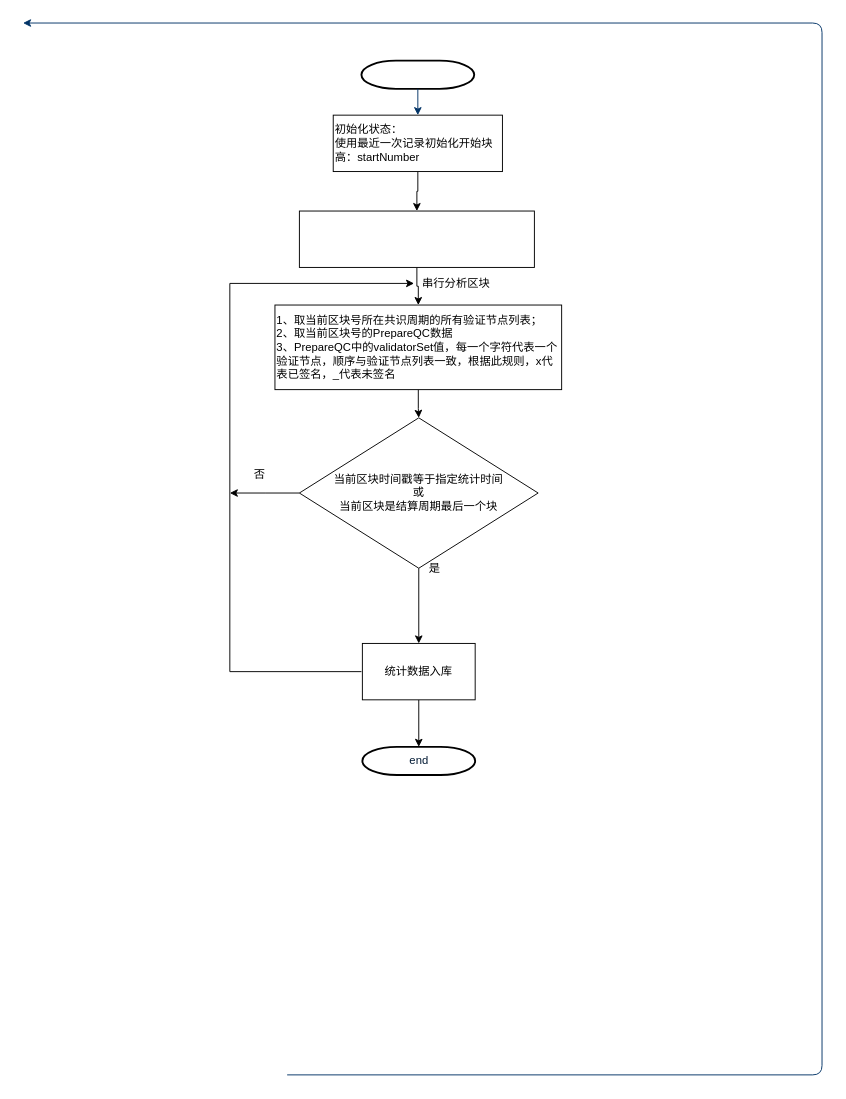
The diagram is 846 pixels wide and 1099 high, and some of its shapes have lost their labels. The shapes that lost their labels are listed below. From the top down, each one's centre as x and y in pixels, then its label:
At pixel 417 74: "start".
At pixel 416 238: "按batchSize批量采块".
